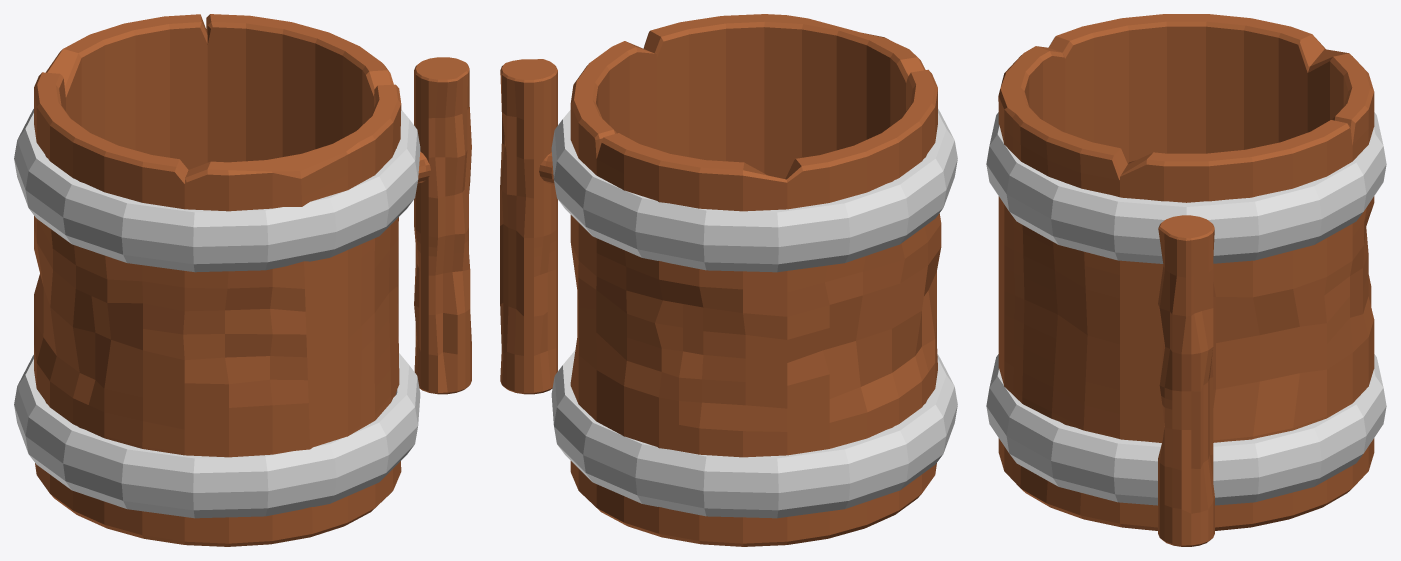
File: Cup.fbx
The picture shows the model from 3 angles, left to right: view 1: azimuth 30°, elevation 25°; view 2: azimuth 150°, elevation 25°; view 3: azimuth 270°, elevation 25°; orthographic projection.
Visible parts, largest first — view 1: Cylinder; view 2: Cylinder; view 3: Cylinder.
Part boxes in pixels (box(x1,y1,x2,y2)): Cylinder: box(14, 14, 471, 546); Cylinder: box(500, 14, 957, 546); Cylinder: box(986, 14, 1386, 546).
Bounding box in the file's own units: 282 × 240 × 235.
